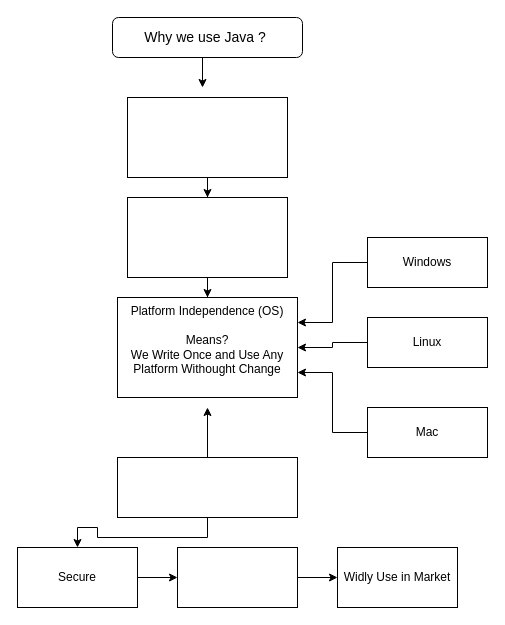
This 505x625 diagram has some shape labels left out. The shapes that lost their labels are listed below. From the top down, each one's box as (x1, y1, x2, y2) in pixels, then its label:
(126, 96, 288, 178): Free to use
(126, 196, 288, 278): Object Oriented Programming Langauge
(116, 456, 298, 518): Garbage Collection ( Auto) It will remove the unnessesary space
(176, 546, 298, 608): JIT
